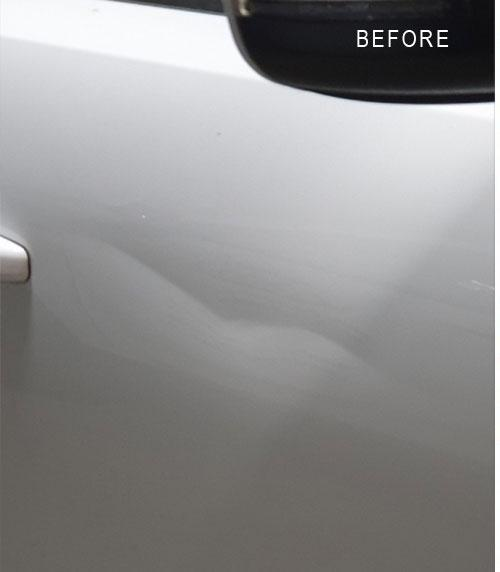dent: (62, 219, 402, 403)
